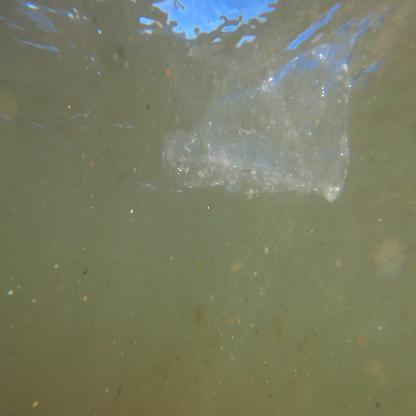Rác: (156, 58, 374, 204)
